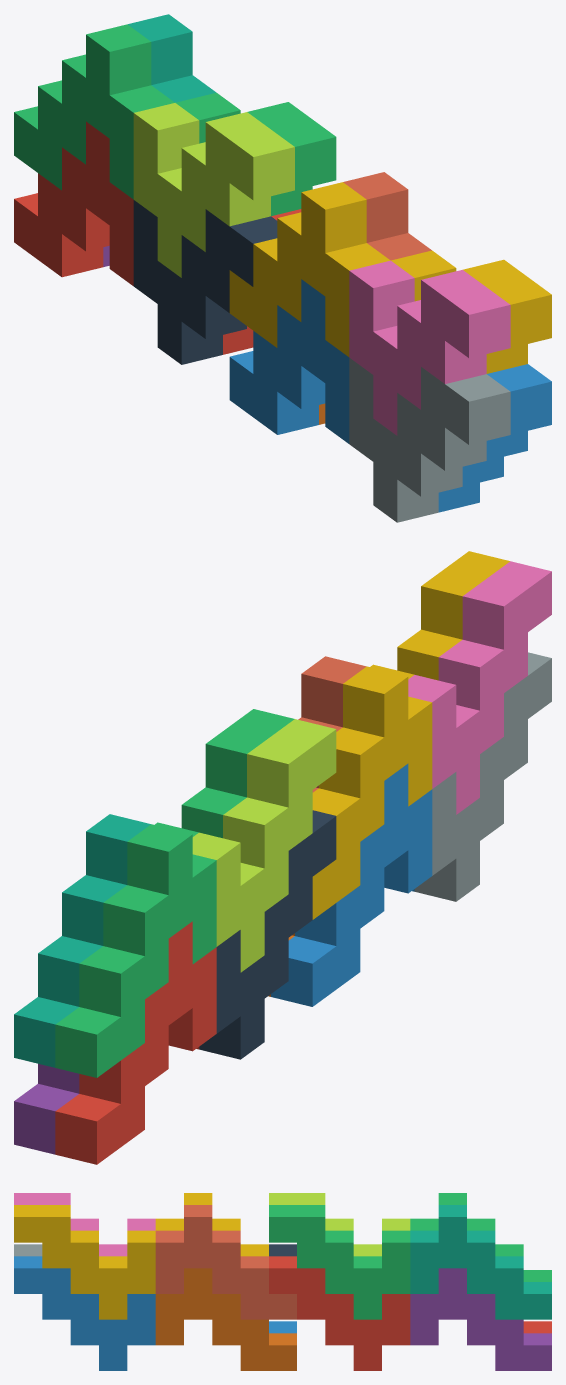
The model's file is tiling.obj.
The picture shows the model from 3 angles, top to bottom: view 1: azimuth 30°, elevation 25°; view 2: azimuth 150°, elevation 25°; view 3: azimuth 270°, elevation 25°; orthographic projection. The views are drawn at different scales.
Visible parts, largest first — view 1: copy_2_domain_3, copy_2_domain_4, copy_2_domain_2, copy_1_domain_3, copy_1_domain_4, copy_2_domain_1, copy_1_domain_2, copy_1_domain_1, copy_2_domain_8, copy_2_domain_7, copy_2_domain_6, copy_1_domain_8 (+2 smaller); view 2: copy_1_domain_3, copy_2_domain_3, copy_2_domain_4, copy_1_domain_4, copy_1_domain_1, copy_1_domain_2, copy_1_domain_7, copy_2_domain_1, copy_2_domain_2, copy_2_domain_7, copy_2_domain_8, copy_1_domain_5 (+1 smaller); view 3: copy_2_domain_8, copy_1_domain_7, copy_2_domain_7, copy_1_domain_8, copy_2_domain_6, copy_1_domain_5, copy_1_domain_6, copy_2_domain_5, copy_1_domain_3, copy_2_domain_3, copy_2_domain_4, copy_1_domain_4 (+4 smaller).
Part boxes in pixels (bbox=[...]): copy_2_domain_3: bbox=[133, 103, 294, 277]; copy_2_domain_4: bbox=[349, 260, 510, 435]; copy_2_domain_2: bbox=[349, 358, 510, 522]; copy_1_domain_3: bbox=[14, 24, 174, 199]; copy_1_domain_4: bbox=[229, 182, 390, 356]; copy_2_domain_1: bbox=[133, 200, 277, 364]; copy_1_domain_2: bbox=[229, 279, 349, 443]; copy_1_domain_1: bbox=[14, 121, 133, 285]; copy_2_domain_8: bbox=[391, 250, 551, 373]; copy_2_domain_7: bbox=[175, 92, 336, 216]; copy_2_domain_6: bbox=[438, 364, 551, 512]; copy_1_domain_8: bbox=[343, 172, 431, 260]; copy_1_domain_3: bbox=[55, 824, 216, 1077]; copy_2_domain_3: bbox=[192, 719, 336, 972]; copy_2_domain_4: bbox=[408, 561, 551, 814]; copy_1_domain_4: bbox=[312, 666, 432, 919]; copy_1_domain_1: bbox=[55, 921, 216, 1164]; copy_1_domain_2: bbox=[271, 763, 432, 1006]; copy_1_domain_7: bbox=[14, 814, 150, 1067]; copy_2_domain_1: bbox=[199, 810, 336, 1059]; copy_2_domain_2: bbox=[414, 652, 551, 901]; copy_2_domain_7: bbox=[154, 709, 294, 838]; copy_2_domain_8: bbox=[370, 551, 509, 680]; copy_1_domain_5: bbox=[14, 1063, 79, 1154]; copy_2_domain_8: bbox=[14, 1205, 155, 1319]; copy_1_domain_7: bbox=[410, 1205, 551, 1319]; copy_2_domain_7: bbox=[269, 1205, 410, 1319]; copy_1_domain_8: bbox=[155, 1205, 296, 1319]; copy_2_domain_6: bbox=[14, 1256, 155, 1370]; copy_1_domain_5: bbox=[410, 1268, 551, 1370]; copy_1_domain_6: bbox=[155, 1268, 296, 1370]; copy_2_domain_5: bbox=[269, 1256, 410, 1370]; copy_1_domain_3: bbox=[410, 1193, 551, 1281]; copy_2_domain_3: bbox=[269, 1193, 410, 1256]; copy_2_domain_4: bbox=[14, 1193, 155, 1256]; copy_1_domain_4: bbox=[155, 1193, 268, 1256].
Size of the model in its own units: 2 by 6 by 19.
